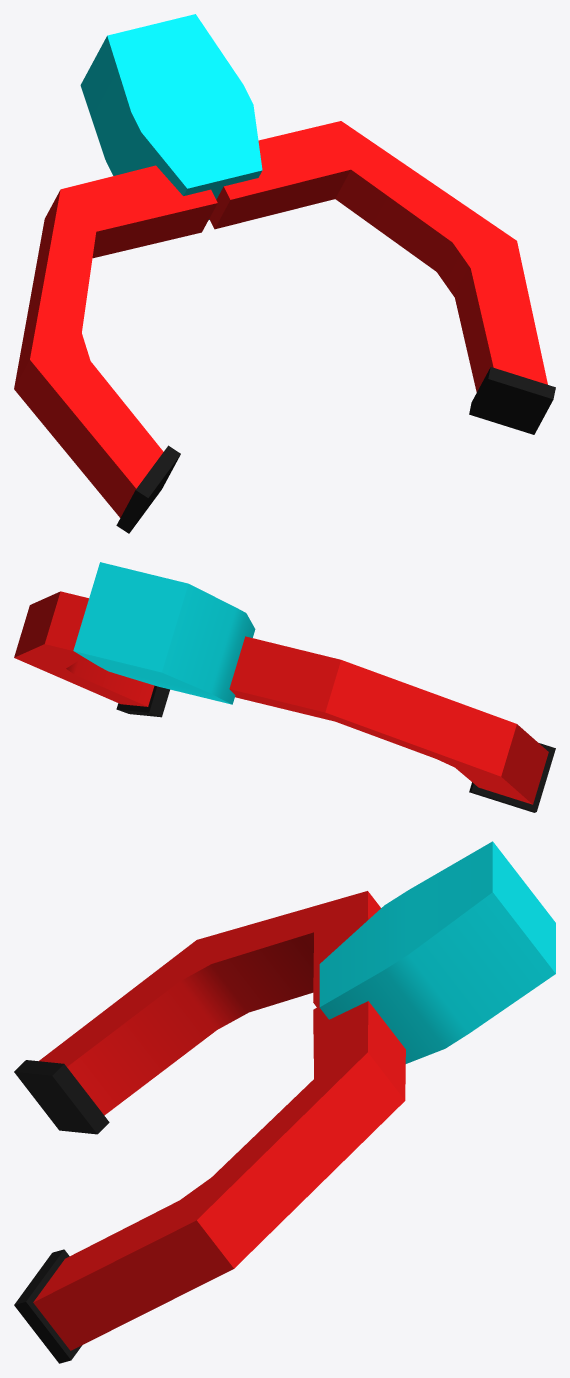
File: Grabber_wide.FBX
3 renders of one model, top to bottom at view 1: azimuth 30°, elevation 25°; view 2: azimuth 150°, elevation 25°; view 3: azimuth 270°, elevation 25°, orthographic. The views are drawn at different scales.
Visible parts, largest first — view 1: Grabber_wide; view 2: Grabber_wide; view 3: Grabber_wide.
Part boxes in pixels (left/top/right/bottom): Grabber_wide: left=14, top=14, right=555, bottom=533; Grabber_wide: left=14, top=562, right=555, bottom=812; Grabber_wide: left=14, top=841, right=555, bottom=1363.
Size of the model in its own units: 97.96 by 62.32 by 80.03.
